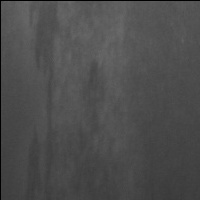inclusion: (23, 2, 58, 200), (76, 58, 105, 156)
